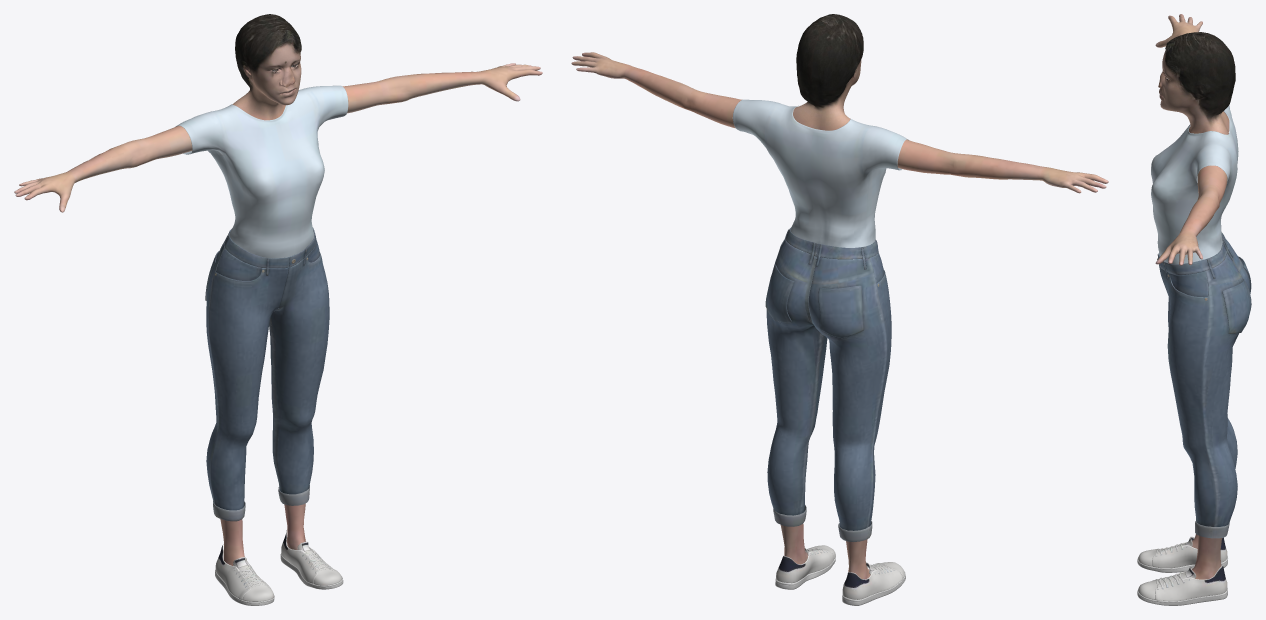
File: model_reduced.glb
The picture shows the model from 3 angles, left to right: view 1: azimuth 30°, elevation 25°; view 2: azimuth 150°, elevation 25°; view 3: azimuth 270°, elevation 25°; orthographic projection. The views are drawn at different scales.
Visible parts, largest first — view 1: outfit, AvatarBody, AvatarHead; view 2: outfit, AvatarBody, AvatarHead; view 3: outfit, AvatarHead, AvatarBody.
Boxes of the visible parts, x1=… form: outfit: x1=175, y1=85, x2=348, y2=605; AvatarBody: x1=14, y1=63, x2=542, y2=565; AvatarHead: x1=232, y1=14, x2=301, y2=120; outfit: x1=732, y1=99, x2=908, y2=605; AvatarBody: x1=571, y1=52, x2=1108, y2=579; AvatarHead: x1=793, y1=14, x2=863, y2=130; outfit: x1=1137, y1=105, x2=1251, y2=605; AvatarHead: x1=1158, y1=32, x2=1235, y2=134; AvatarBody: x1=1155, y1=14, x2=1227, y2=579.
Size of what is drawn, in the model's own units: 1.71 by 1.75 by 0.3291.
Materials: 8 (7 with a texture image).
